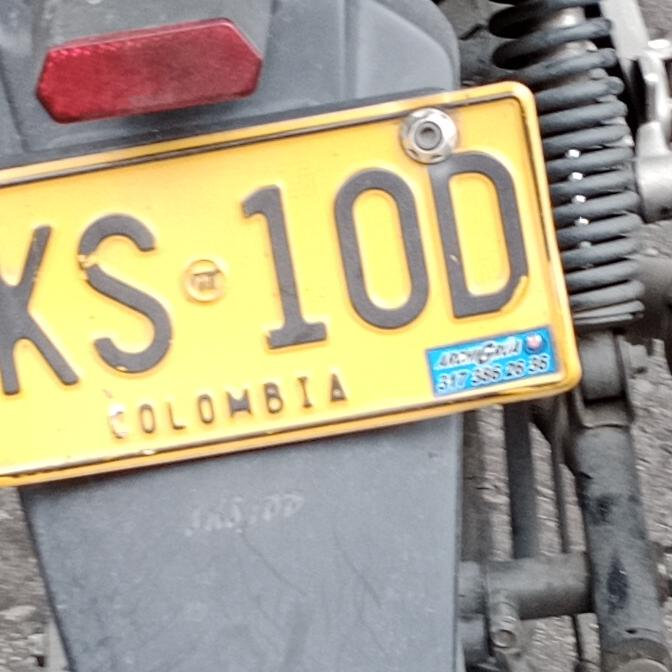plates: (0, 80, 588, 495)
